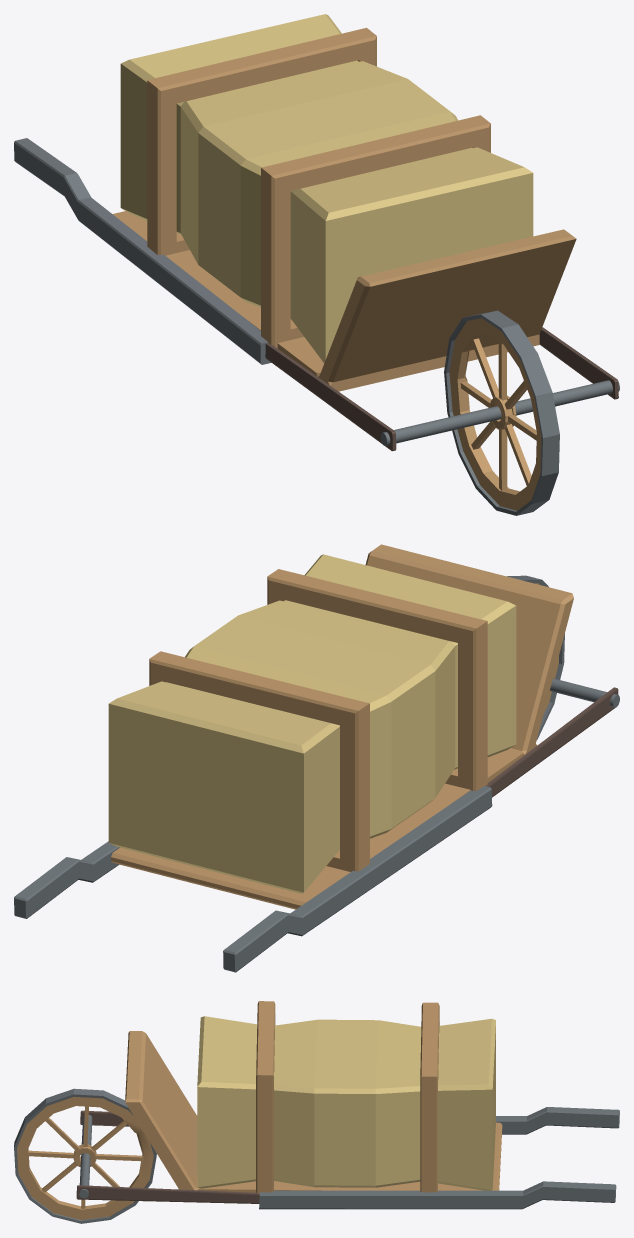
File: HayWagon.fbx
3 renders of one model, top to bottom at view 1: azimuth 30°, elevation 25°; view 2: azimuth 150°, elevation 25°; view 3: azimuth 270°, elevation 25°, orthographic. The views are drawn at different scales.
Visible parts, largest first — view 1: Box003; view 2: Box003; view 3: Box003.
Boxes of the visible parts, box(x1,y1,x2,y2) form: Box003: box(14, 14, 619, 515); Box003: box(14, 544, 619, 972); Box003: box(14, 1001, 619, 1223).
Size of the model in its own units: 38.9 by 40.01 by 119.
